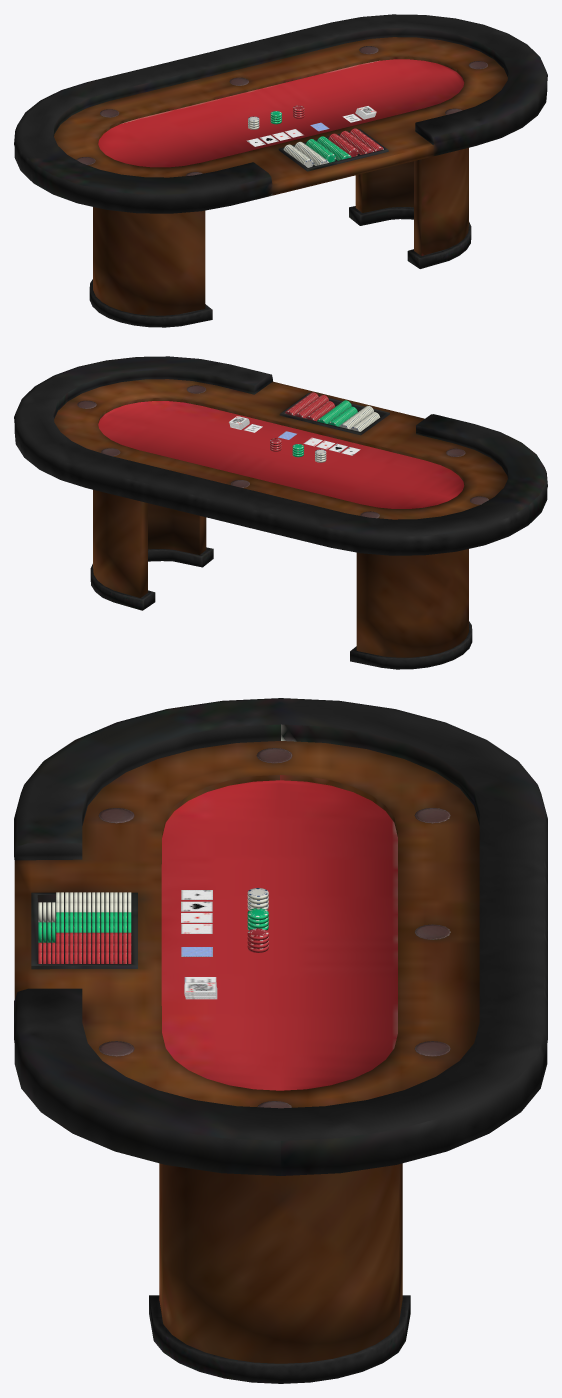
Rendered from poker7.glb.
The picture shows the model from 3 angles, top to bottom: view 1: azimuth 30°, elevation 25°; view 2: azimuth 150°, elevation 25°; view 3: azimuth 270°, elevation 25°; orthographic projection. The views are drawn at different scales.
Parts seen in each view (by area): view 1: Object_2; view 2: Object_2; view 3: Object_2.
Boxes of the visible parts, x1,y1,x2,y2 form: Object_2: [14, 14, 547, 327]; Object_2: [14, 356, 547, 669]; Object_2: [14, 698, 547, 1383].
Bounding box in the file's own units: 2.93 × 0.9328 × 1.48.
1 material, 1 textured.
